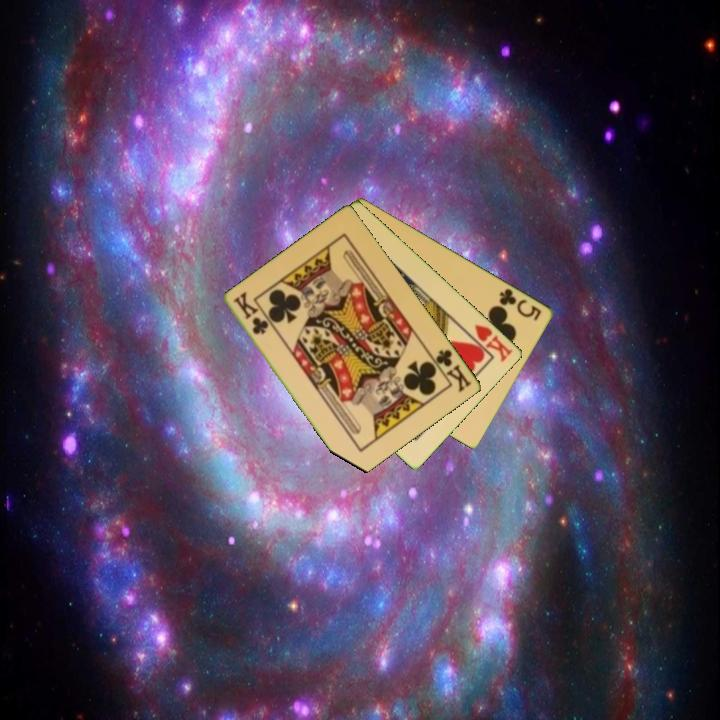5c: (496, 285, 545, 324)
Kc: (427, 346, 475, 396), (230, 289, 272, 338)
Kh: (462, 321, 516, 365)
